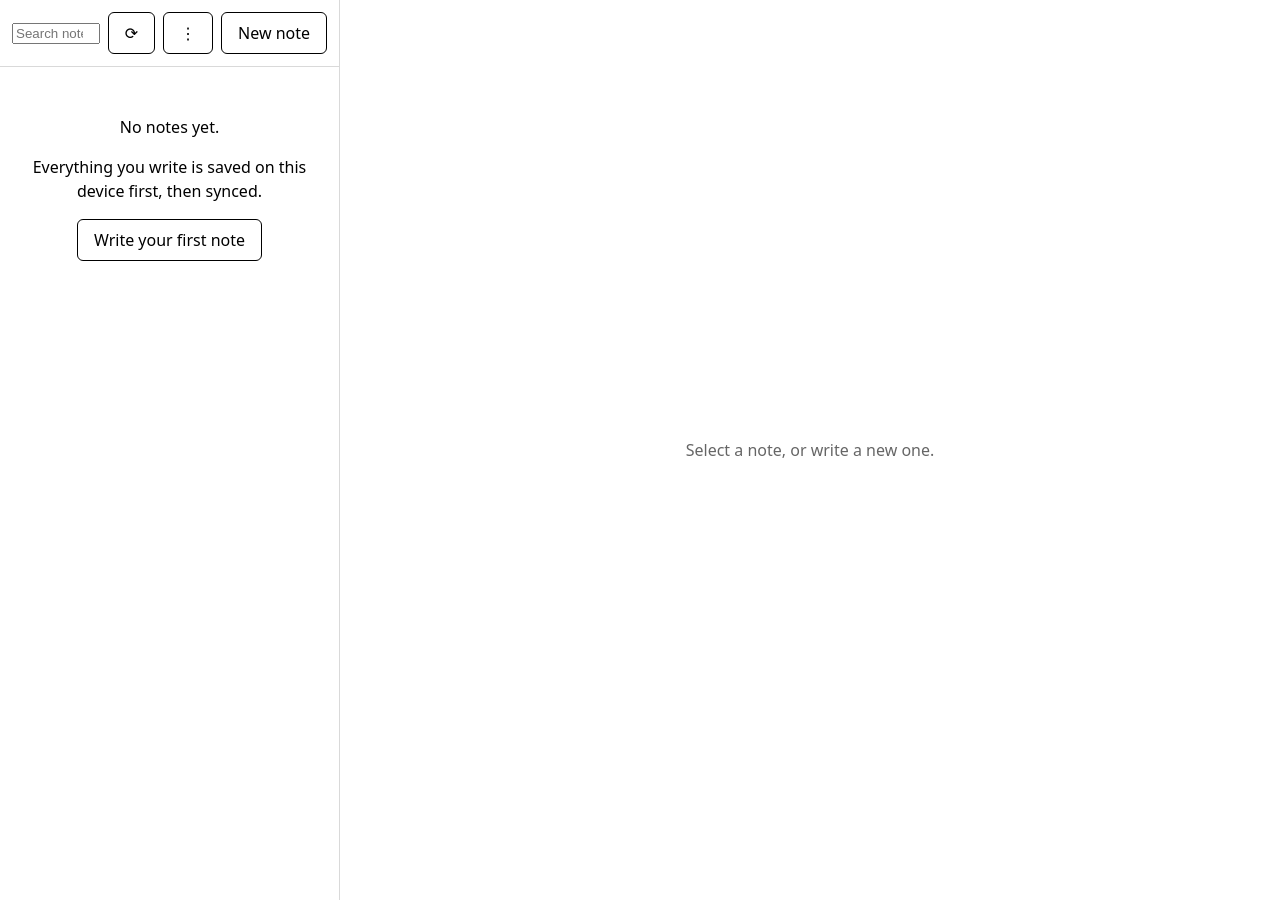
Test: App — the auth gate › signed in: opens that uid’s session and shows the shell with the user’s email
The width and height of the screenshot is (1280, 900).
Expected: the text "No notes yet." is shown, [120,116,219,138]
Click the button named "Menu": x=188, y=33 [163,12,213,54]
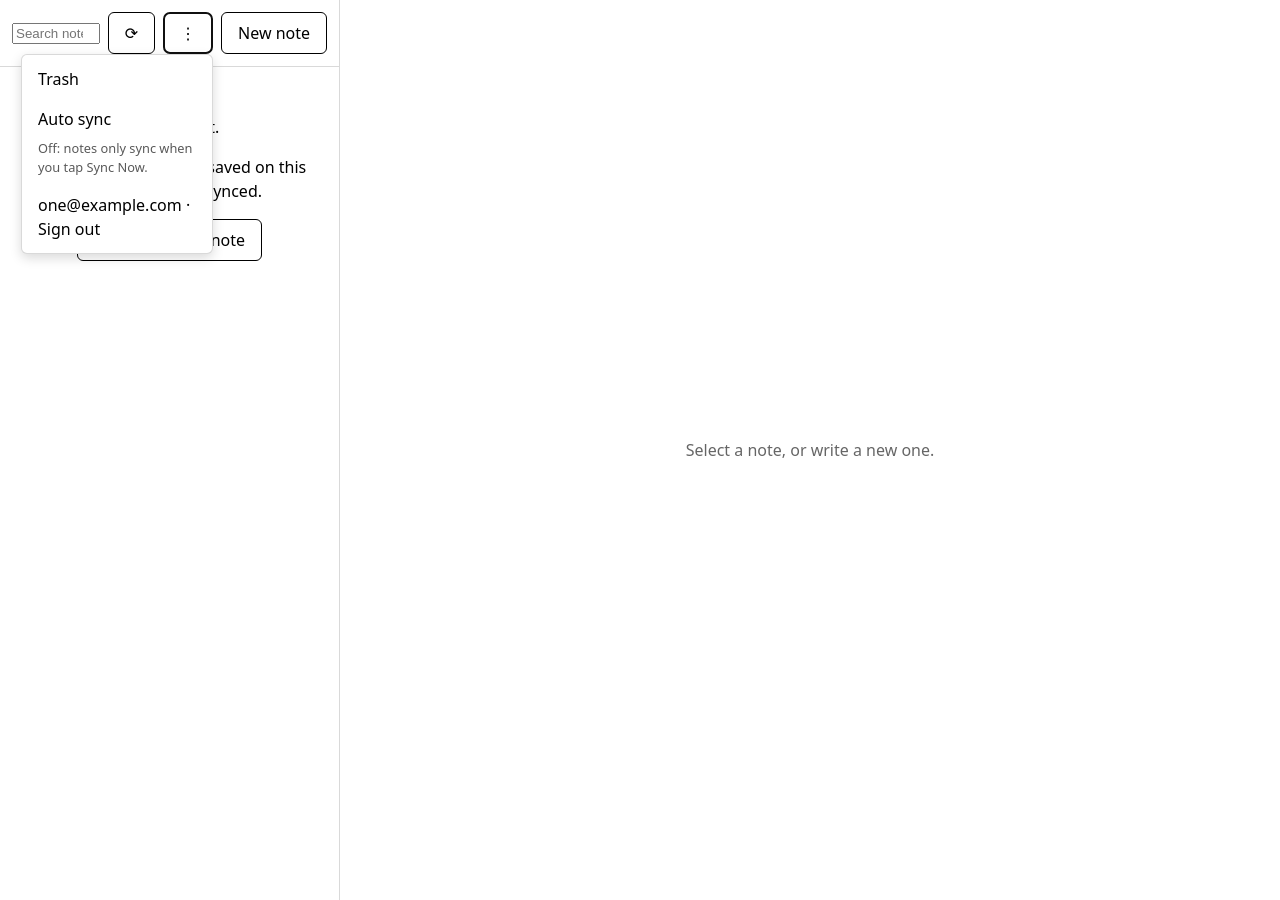
Expected: the menu item "one@example.com · Sign out" is shown, [26,185,208,249]
